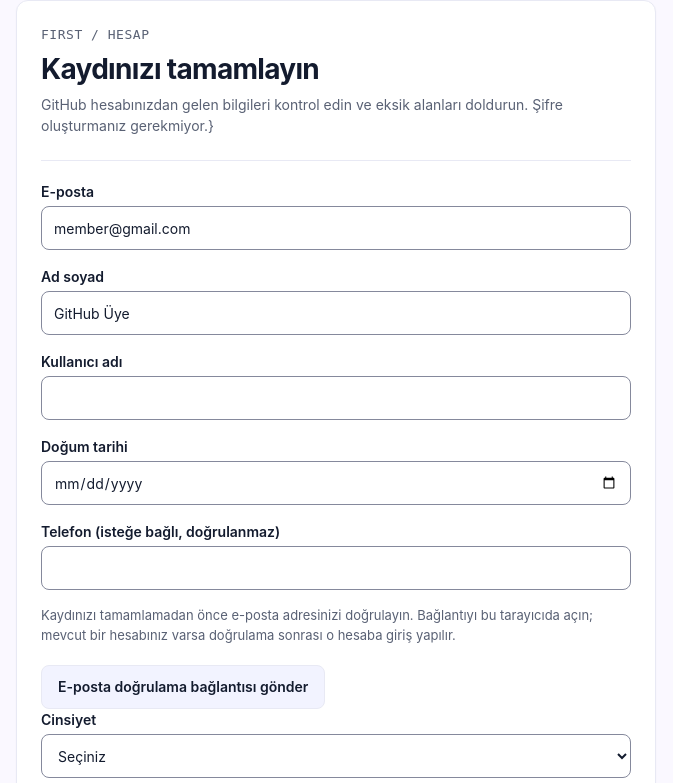
Test: requests mailbox proof without submitting the incomplete profile
This screenshot has width=673, height=783.
Click the button "E-posta doğrulama bağlantısı gönder" at (183,687), box x1=41 y1=665 x2=325 y2=709
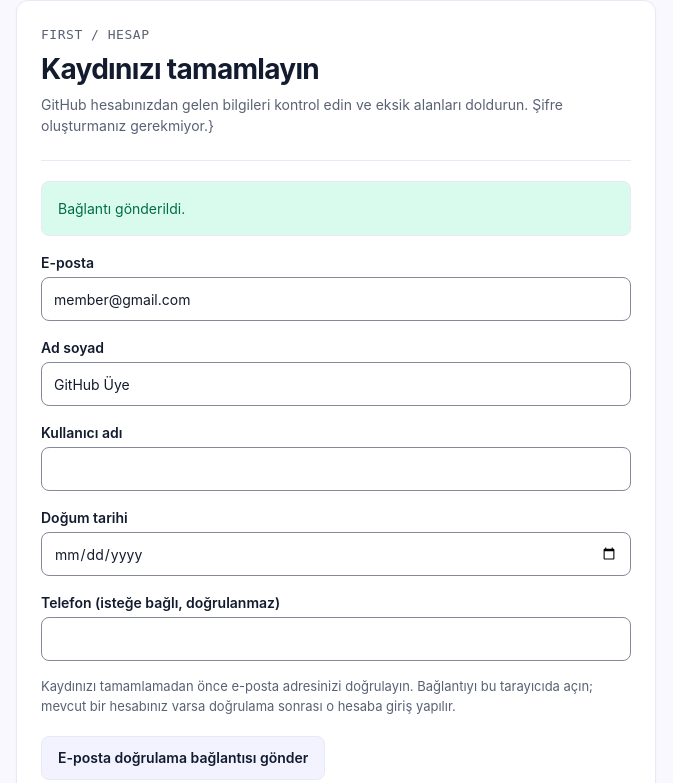
Expected: the message reads "Bağlantı gönderildi.", x1=58 y1=200 x2=185 y2=217
